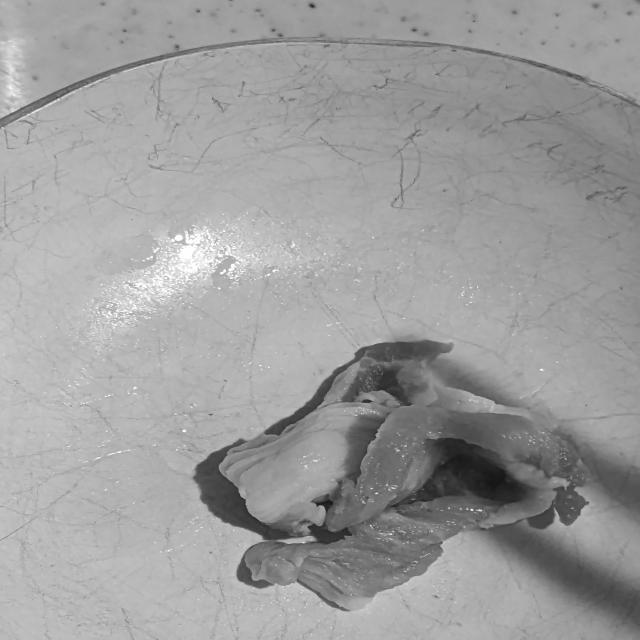NG raw pork,: (208, 336, 604, 619)
